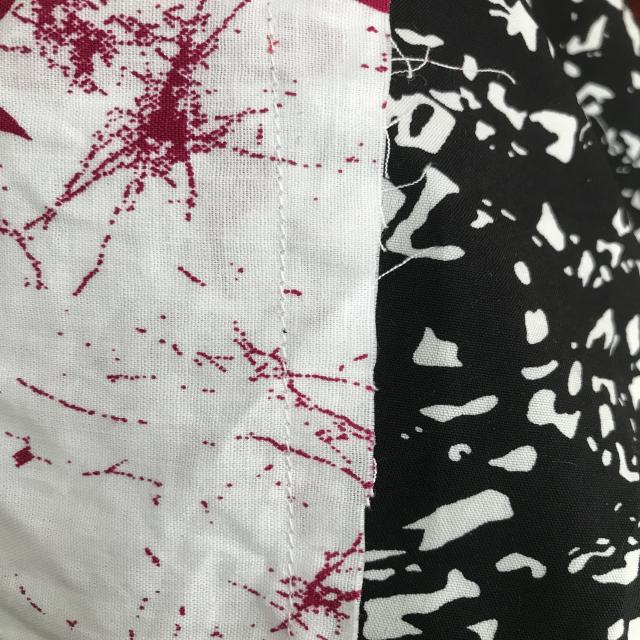good: (271, 406, 311, 558), (258, 186, 303, 282)
